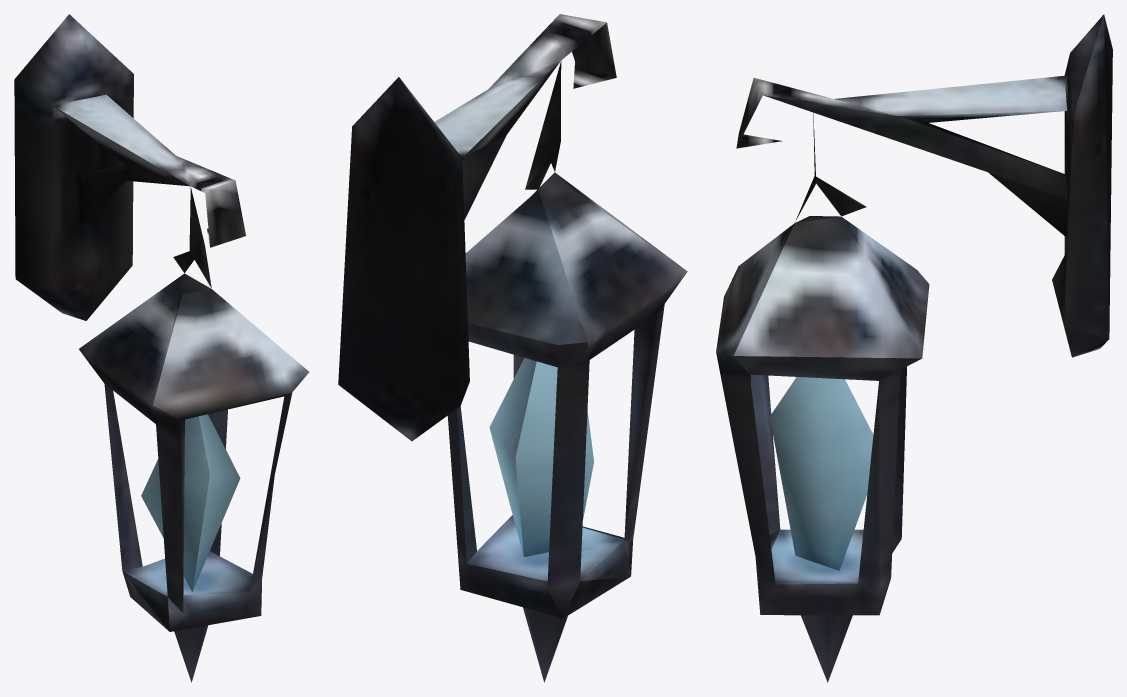
The model's file is b_givre_ornement_mur_lod1.glb.
The picture shows the model from 3 angles, left to right: view 1: azimuth 30°, elevation 25°; view 2: azimuth 150°, elevation 25°; view 3: azimuth 270°, elevation 25°; orthographic projection. The views are drawn at different scales.
Visible parts, largest first — view 1: geometry_0; view 2: geometry_0; view 3: geometry_0.
Part boxes in pixels (x1,y1,x2,y2): geometry_0: [14, 14, 309, 682]; geometry_0: [338, 14, 687, 682]; geometry_0: [716, 14, 1112, 682].
Bounding box in the file's own units: 0.2791 × 1 × 0.54.
Materials: 1 (1 with a texture image).
